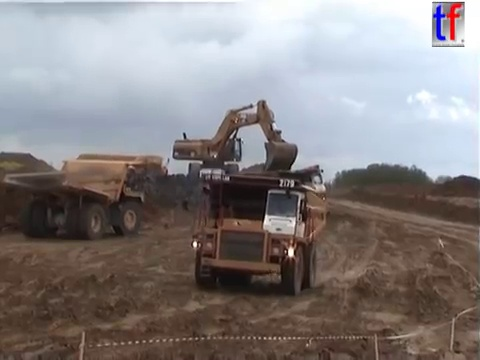excavator: (170, 98, 301, 185), (243, 162, 324, 196)
truck: (181, 170, 329, 297), (2, 157, 146, 241), (232, 163, 328, 207), (72, 152, 171, 186)
